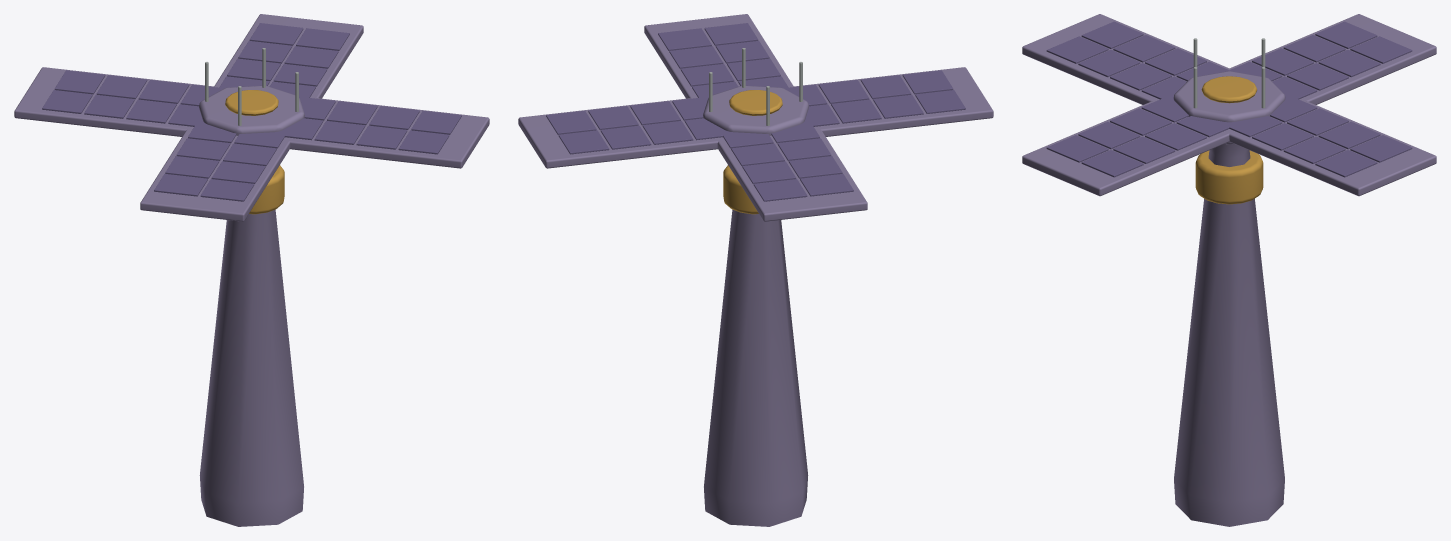
3 views of the same model, side by side, from view 1: azimuth 30°, elevation 25°; view 2: azimuth 150°, elevation 25°; view 3: azimuth 270°, elevation 25° (orthographic). The views are drawn at different scales.
Visible parts, largest first — view 1: Solar tapered mast, Solar collector petal.003, Solar collector petal.001, Solar collector petal.002, Solar tracking hub, Solar collector petal, Solar hub gold cap, Solar gold mast collar, Solar collector cell.023, Solar collector cell.022, Solar collector cell.007, Solar collector cell.004 (+25 smaller); view 2: Solar tapered mast, Solar collector petal, Solar collector petal.002, Solar collector petal.001, Solar tracking hub, Solar collector petal.003, Solar hub gold cap, Solar gold mast collar, Solar collector cell.014, Solar collector cell.015, Solar collector cell.030, Solar collector cell.007 (+25 smaller); view 3: Solar tapered mast, Solar collector petal, Solar collector petal.003, Solar collector petal.002, Solar collector petal.001, Solar tracking hub, Solar gold mast collar, Solar hub gold cap, Solar collector cell.007, Solar collector cell.030, Solar collector cell.005, Solar collector cell.028 (+26 smaller).
Boxes of the visible parts, x1=… form: Solar tapered mast: x1=199, y1=209, x2=303, y2=526; Solar collector petal.003: x1=283, y1=97, x2=489, y2=168; Solar collector petal.001: x1=14, y1=67, x2=218, y2=136; Solar collector petal.002: x1=140, y1=126, x2=290, y2=221; Solar tracking hub: x1=199, y1=85, x2=304, y2=135; Solar collector petal: x1=214, y1=14, x2=363, y2=98; Solar hub gold cap: x1=225, y1=90, x2=278, y2=115; Solar gold mast collar: x1=249, y1=165, x2=284, y2=214; Solar collector cell.023: x1=200, y1=179, x2=254, y2=201; Solar collector cell.022: x1=154, y1=173, x2=207, y2=196; Solar collector cell.007: x1=249, y1=23, x2=303, y2=45; Solar collector cell.004: x1=284, y1=46, x2=338, y2=68; Solar tapered mast: x1=704, y1=209, x2=808, y2=526; Solar collector petal: x1=518, y1=97, x2=724, y2=168; Solar collector petal.002: x1=789, y1=67, x2=993, y2=136; Solar collector petal.001: x1=717, y1=126, x2=867, y2=221; Solar tracking hub: x1=703, y1=85, x2=808, y2=135; Solar collector petal.003: x1=644, y1=14, x2=793, y2=98; Solar hub gold cap: x1=729, y1=90, x2=782, y2=115; Solar gold mast collar: x1=723, y1=165, x2=758, y2=214; Solar collector cell.014: x1=753, y1=179, x2=807, y2=201; Solar collector cell.015: x1=800, y1=173, x2=853, y2=196; Solar collector cell.030: x1=704, y1=23, x2=758, y2=45; Solar collector cell.007: x1=558, y1=130, x2=609, y2=154; Solar tapered mast: x1=1174, y1=144, x2=1284, y2=526; Solar collector petal: x1=1225, y1=99, x2=1436, y2=196; Solar collector petal.003: x1=1022, y1=101, x2=1230, y2=196; Solar collector petal.002: x1=1022, y1=14, x2=1229, y2=104; Solar collector petal.001: x1=1228, y1=14, x2=1436, y2=104; Solar tracking hub: x1=1173, y1=71, x2=1285, y2=144; Solar gold mast collar: x1=1195, y1=150, x2=1263, y2=204; Solar hub gold cap: x1=1201, y1=76, x2=1257, y2=103; Solar collector cell.007: x1=1350, y1=135, x2=1412, y2=162; Solar collector cell.030: x1=1046, y1=135, x2=1108, y2=162; Solar collector cell.005: x1=1318, y1=121, x2=1380, y2=149; Solar collector cell.028: x1=1078, y1=121, x2=1140, y2=149.
Size of the model in its own units: 2.68 by 3.22 by 2.68.
